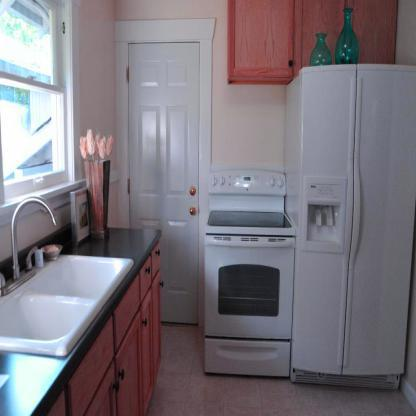door: (124, 37, 202, 330)
hinged: (127, 177, 130, 196), (127, 66, 130, 84)
knob: (189, 206, 195, 216)
